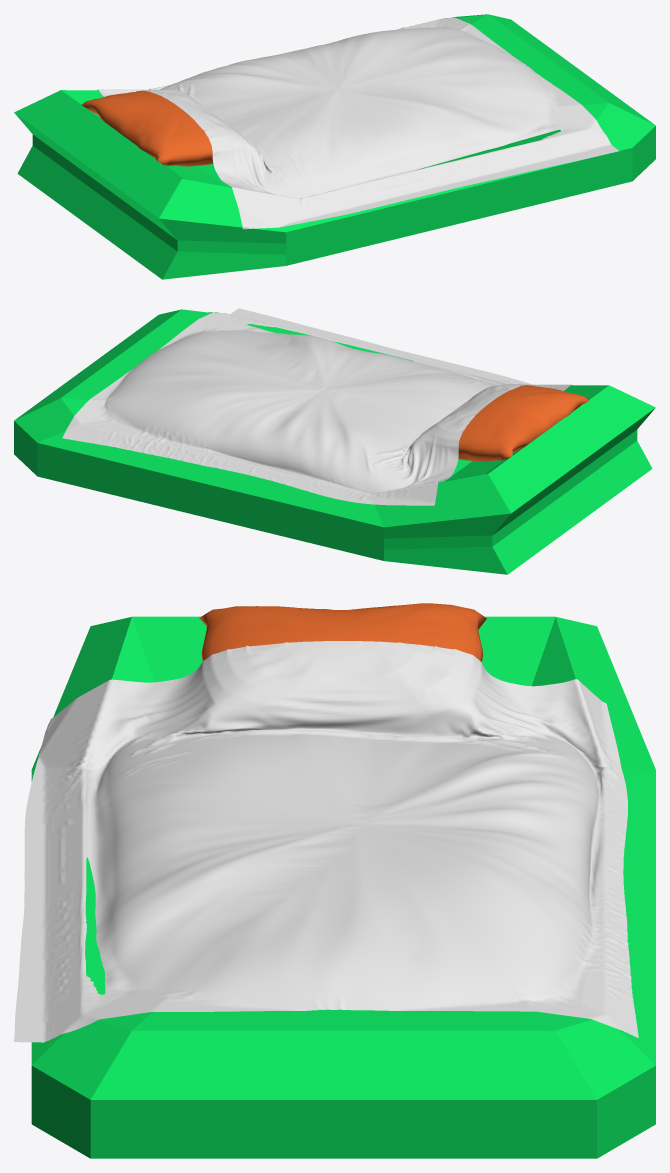
File: tellusbed.fbx
3 renders of one model, top to bottom at view 1: azimuth 30°, elevation 25°; view 2: azimuth 150°, elevation 25°; view 3: azimuth 270°, elevation 25°, orthographic. The views are drawn at different scales.
Parts seen in each view (by area): view 1: Cube.001; view 2: Cube.001; view 3: Cube.001.
Part boxes in pixels (box(x1,y1,x2,y2)): Cube.001: box(14, 14, 655, 279); Cube.001: box(14, 308, 655, 574); Cube.001: box(14, 603, 655, 1158).
Size of the model in its own units: 2313 by 466 by 1480.
